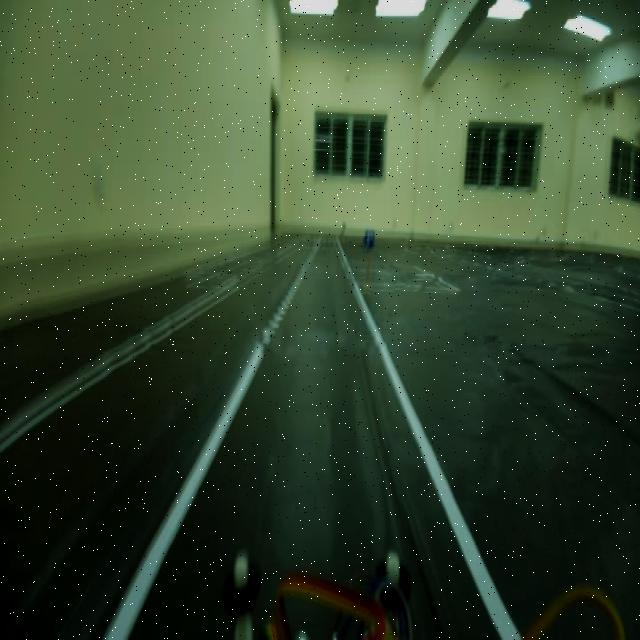parking: (360, 223, 378, 252)
